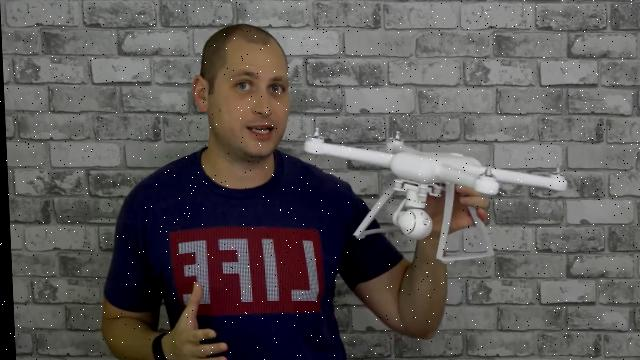drone: (294, 128, 574, 276)
